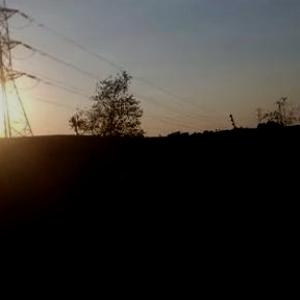follow: (100, 134, 173, 299)
